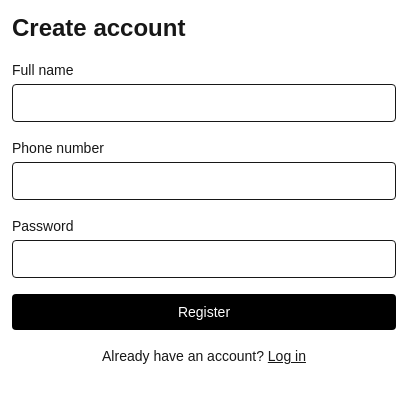
RegisterForm › shows inline error on duplicate phone
In the field labelled "Full name": (204, 103) x1=12 y1=84 x2=396 y2=122, type "Test User"
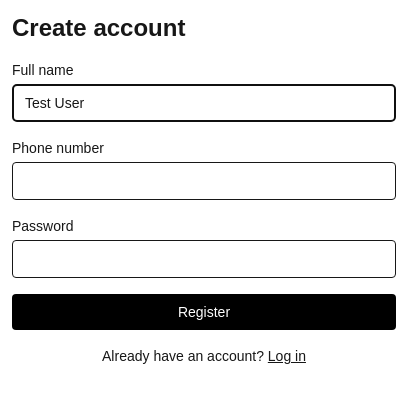
In the field labelled "Phone number": (204, 181) x1=12 y1=162 x2=396 y2=200, type "+1234567890"
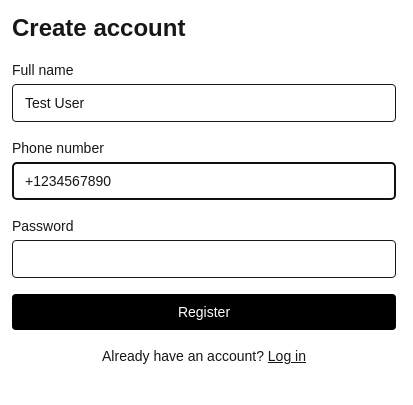
In the password field labelled "Password": (204, 259) x1=12 y1=240 x2=396 y2=278, type "secret123"
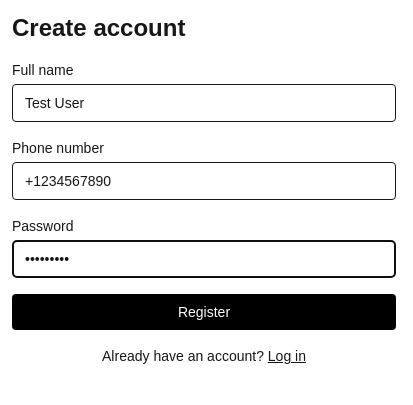
Click the button "Register": (204, 312) x1=12 y1=294 x2=396 y2=330
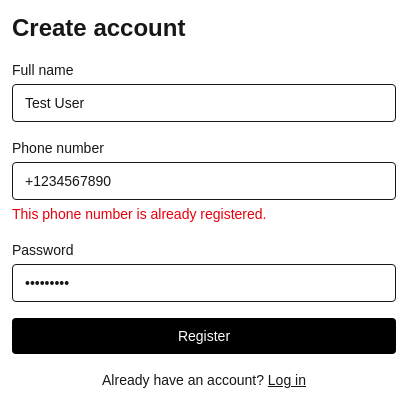
Expected: the text "This phone number is already registered." is shown, x1=12 y1=206 x2=266 y2=222
